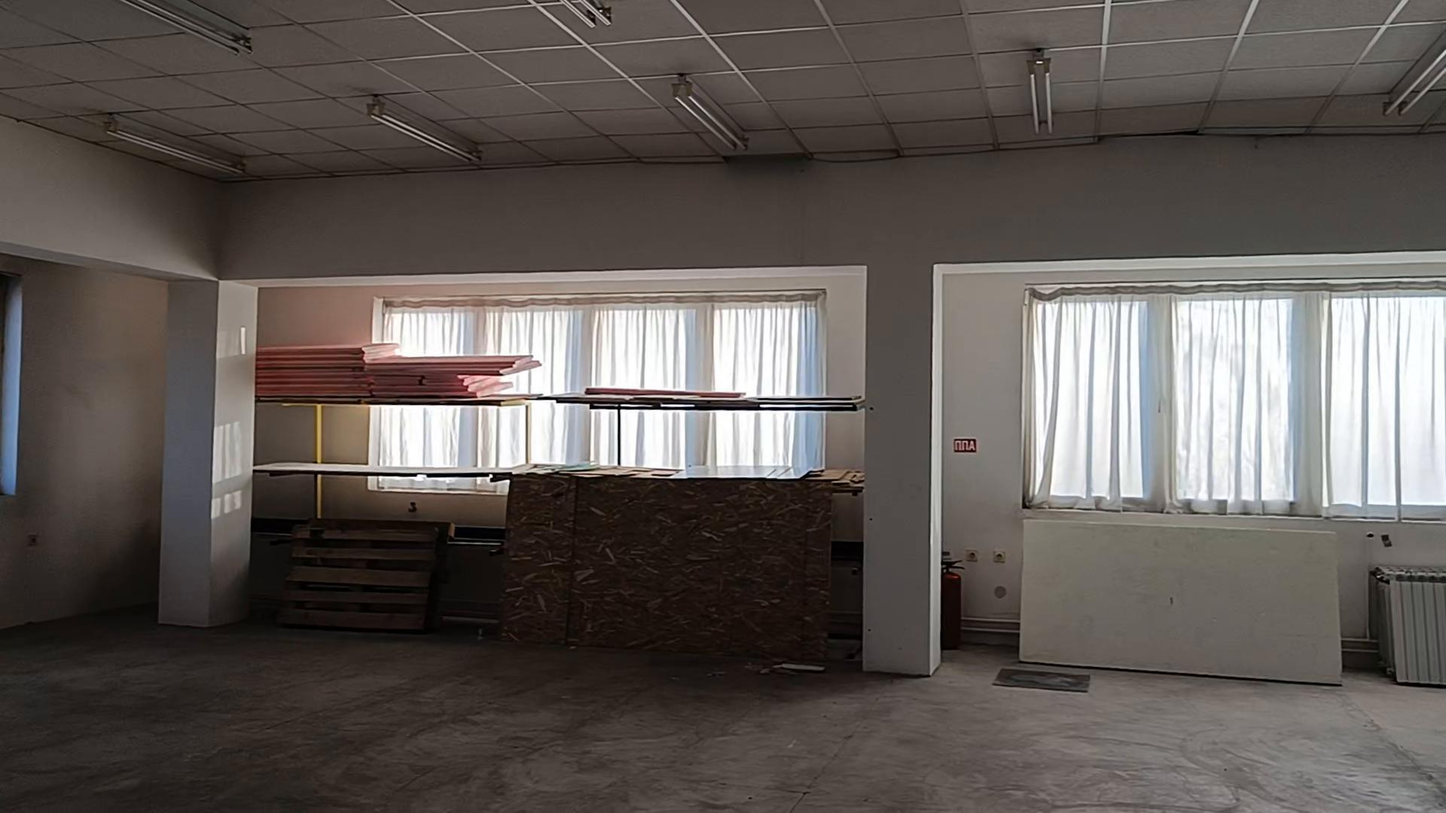ceiling: (0, 0, 1445, 178)
floor: (0, 614, 1445, 812)
wall: (0, 123, 1438, 671), (1, 272, 173, 617)
